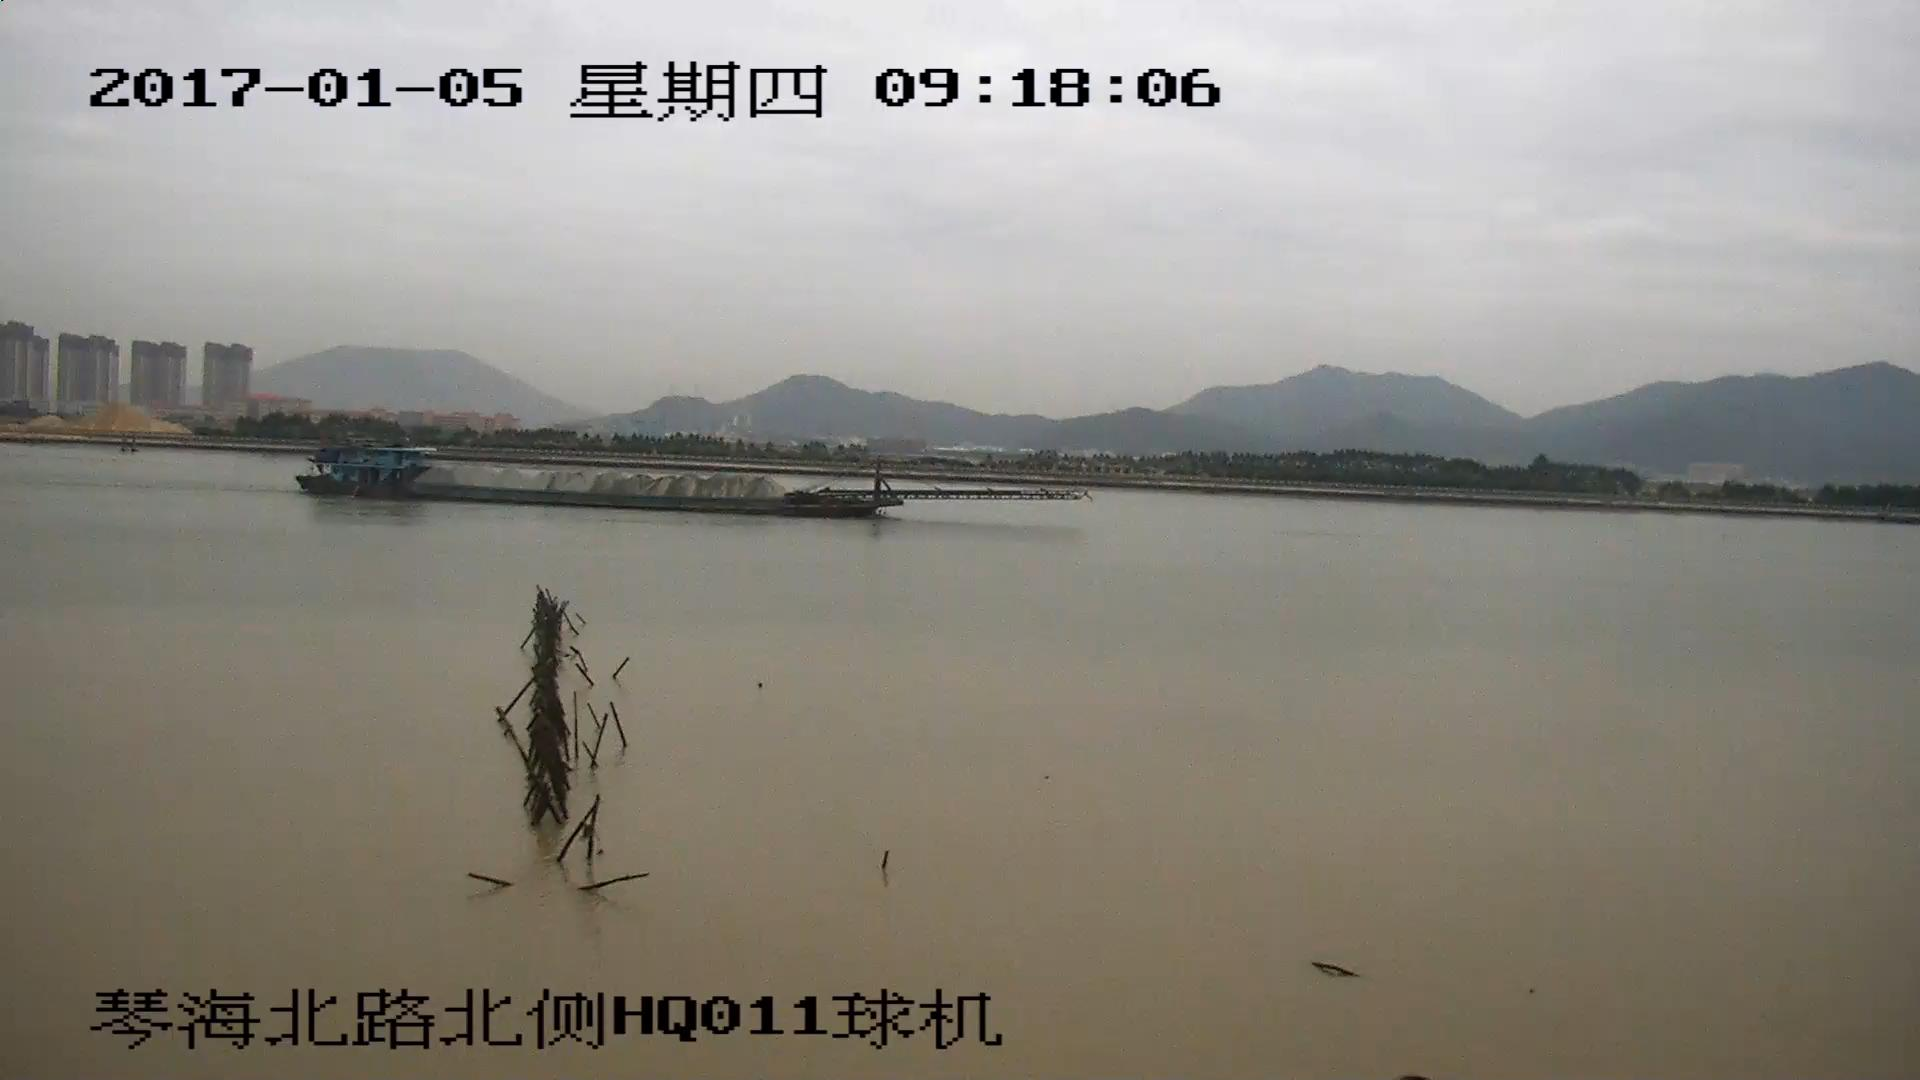ore carrier: (292, 444, 1072, 516)
